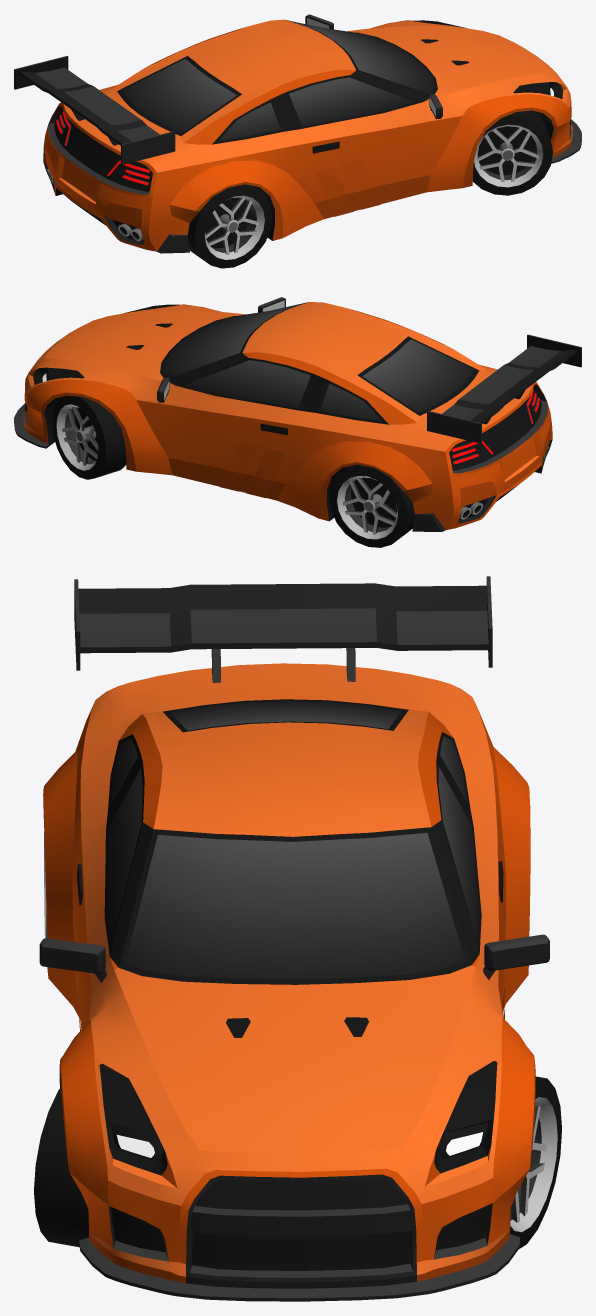
Rendered from RaceCar_038.glb.
The picture shows the model from 3 angles, top to bottom: view 1: azimuth 30°, elevation 25°; view 2: azimuth 150°, elevation 25°; view 3: azimuth 270°, elevation 25°; orthographic projection. The views are drawn at different scales.
Visible parts, largest first — view 1: RaceCar_038, wheel_1_RaceCar_038_Wheel_1R, wheel_2_RaceCar_038_Wheel_2R; view 2: RaceCar_038, wheel_3_RaceCar_038_Wheel_3L, wheel_0_RaceCar_038_Wheel_1L; view 3: RaceCar_038, wheel_1_RaceCar_038_Wheel_1R, wheel_0_RaceCar_038_Wheel_1L.
Boxes of the visible parts, box(x1,y1,x2,y2) form: RaceCar_038: box(14, 14, 581, 253); wheel_1_RaceCar_038_Wheel_1R: box(472, 110, 552, 195); wheel_2_RaceCar_038_Wheel_2R: box(187, 184, 272, 268); RaceCar_038: box(14, 297, 581, 531); wheel_3_RaceCar_038_Wheel_3L: box(329, 464, 414, 547); wheel_0_RaceCar_038_Wheel_1L: box(52, 395, 126, 479); RaceCar_038: box(39, 576, 549, 1301); wheel_1_RaceCar_038_Wheel_1R: box(34, 1087, 88, 1247); wheel_0_RaceCar_038_Wheel_1L: box(510, 1076, 561, 1248).
Bounding box in the file's own units: 4.74 × 1.37 × 2.21.
Materials: 2 (2 with a texture image).
